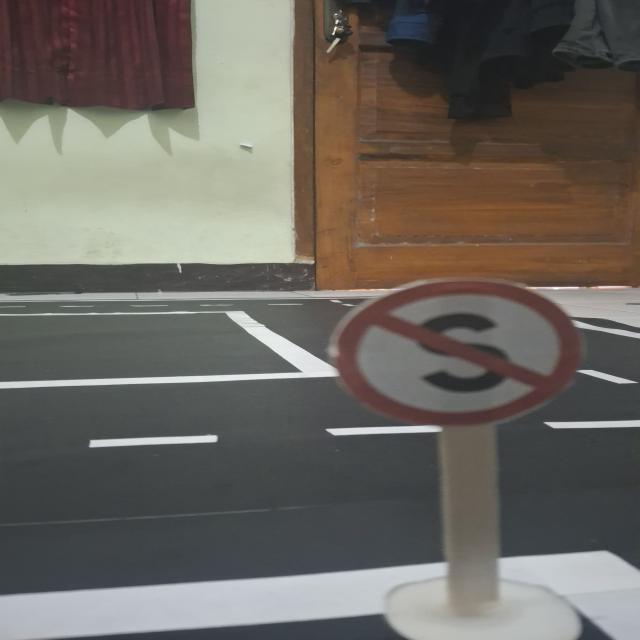Rambu Berhenti: (332, 281, 582, 427)
